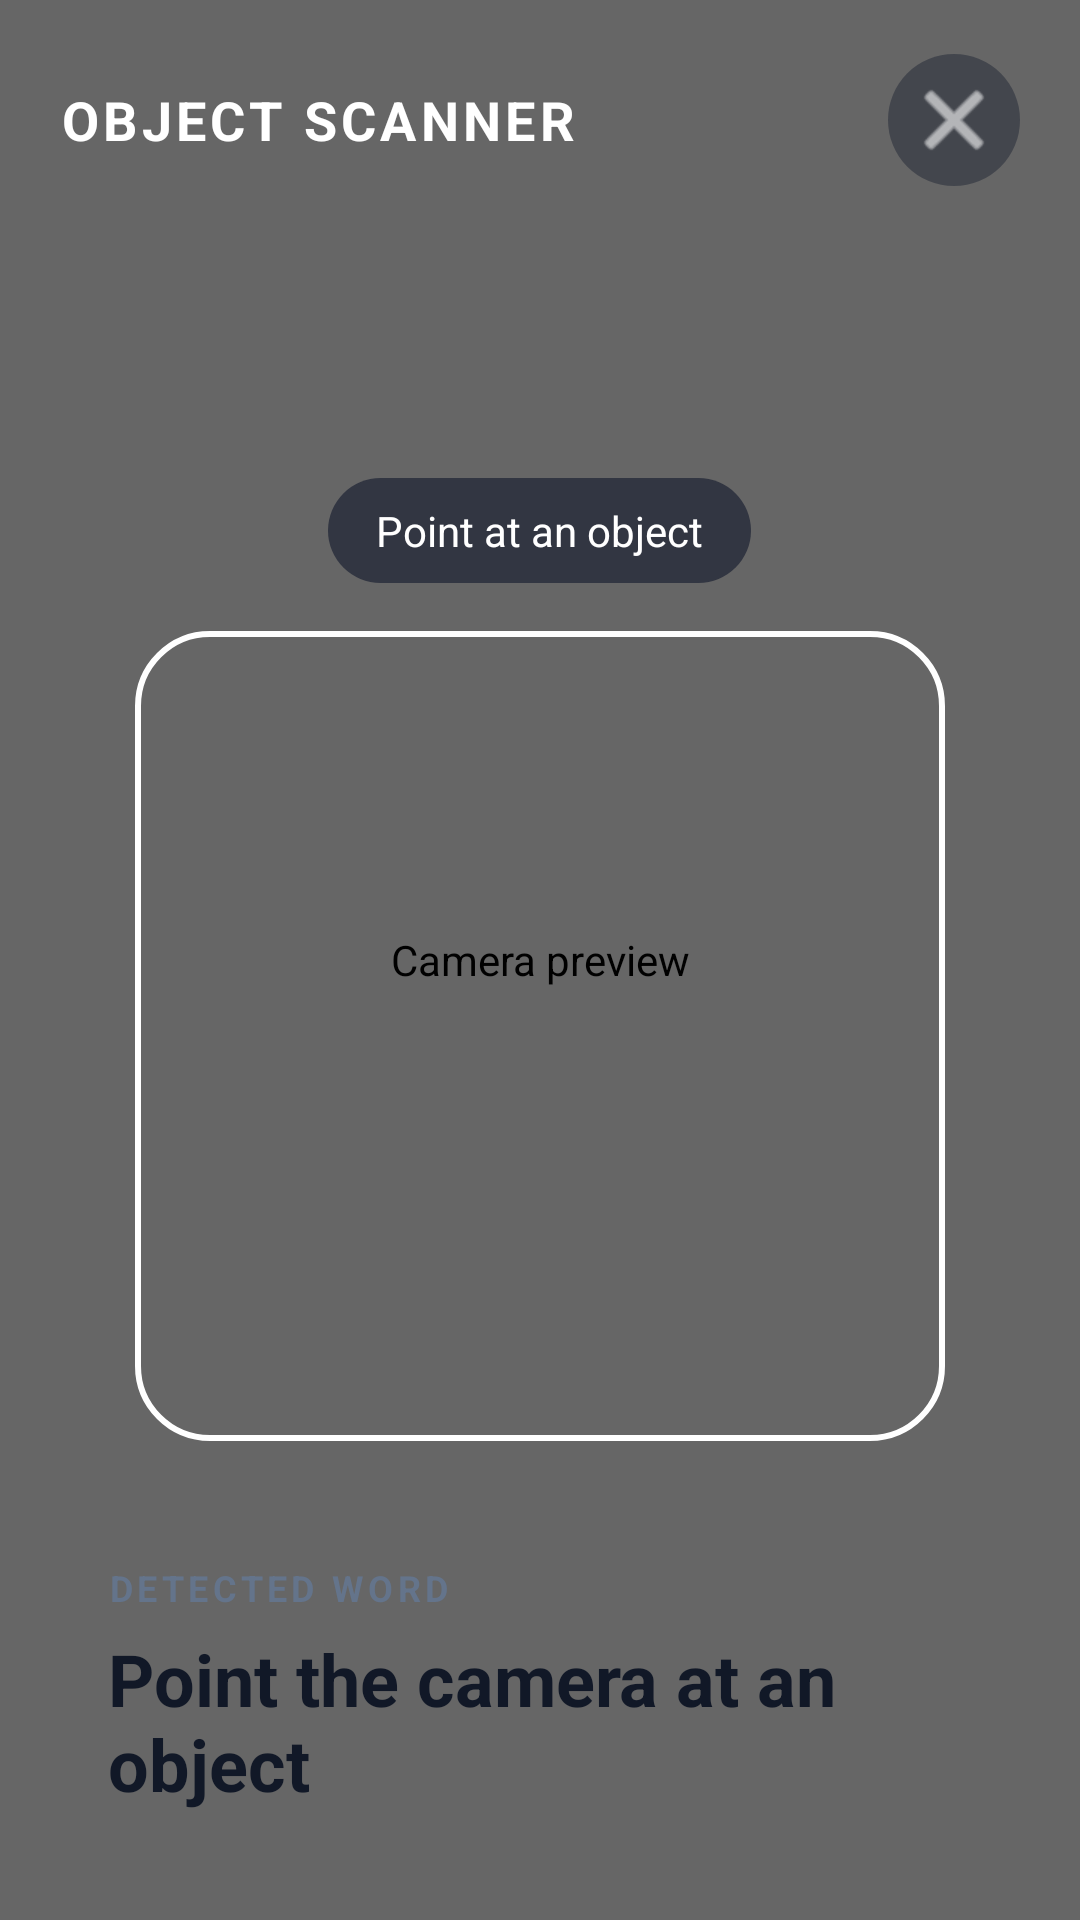

Locate icon controls on the screen. Image size 1080px x 1920px, boxes as (x1, y1, x2, y2).
Close scanner: (888, 54, 1020, 186)
